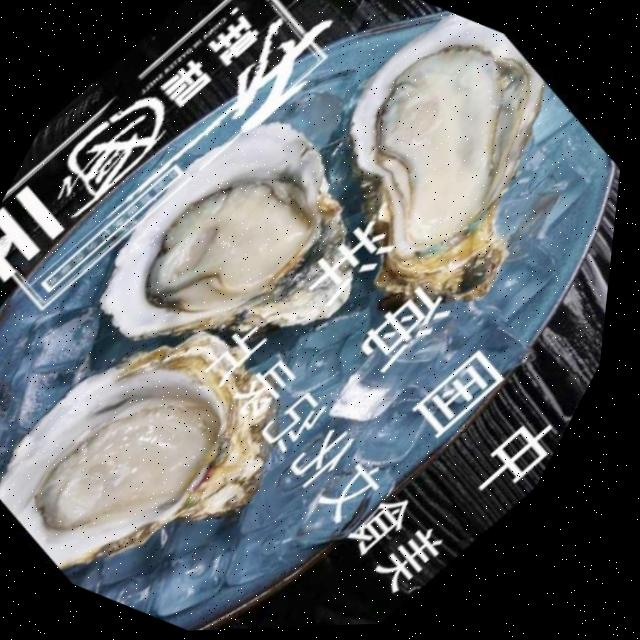Oyster-Open: (0, 323, 307, 575), (323, 1, 563, 321), (79, 105, 363, 346)
